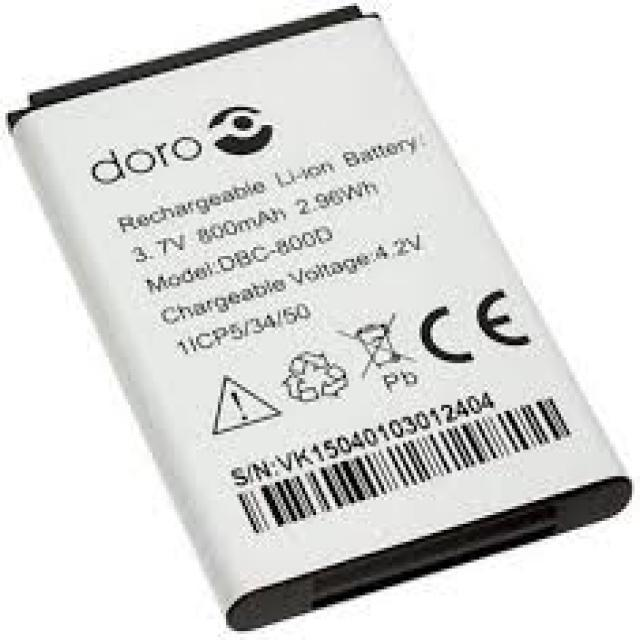battery: (6, 2, 636, 634)
